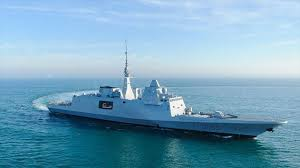Ship: (47, 75, 286, 138)
